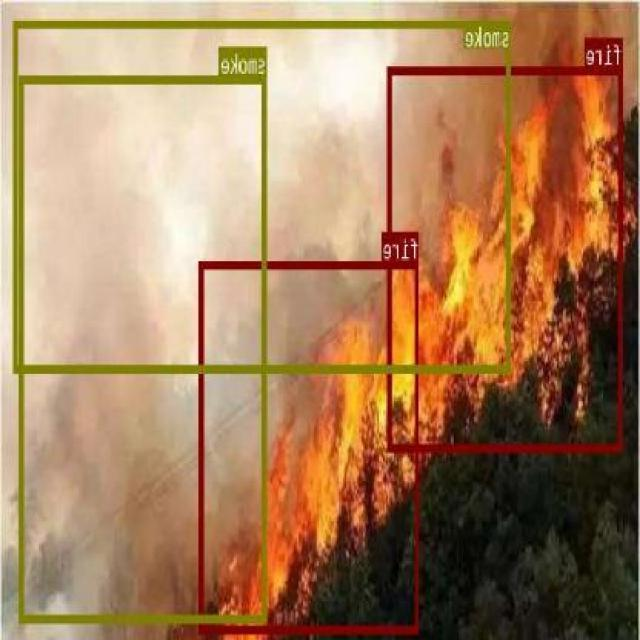Fire: (378, 65, 640, 450), (217, 303, 420, 640)
Smoke: (7, 4, 280, 628), (278, 0, 428, 338), (425, 0, 583, 205)
